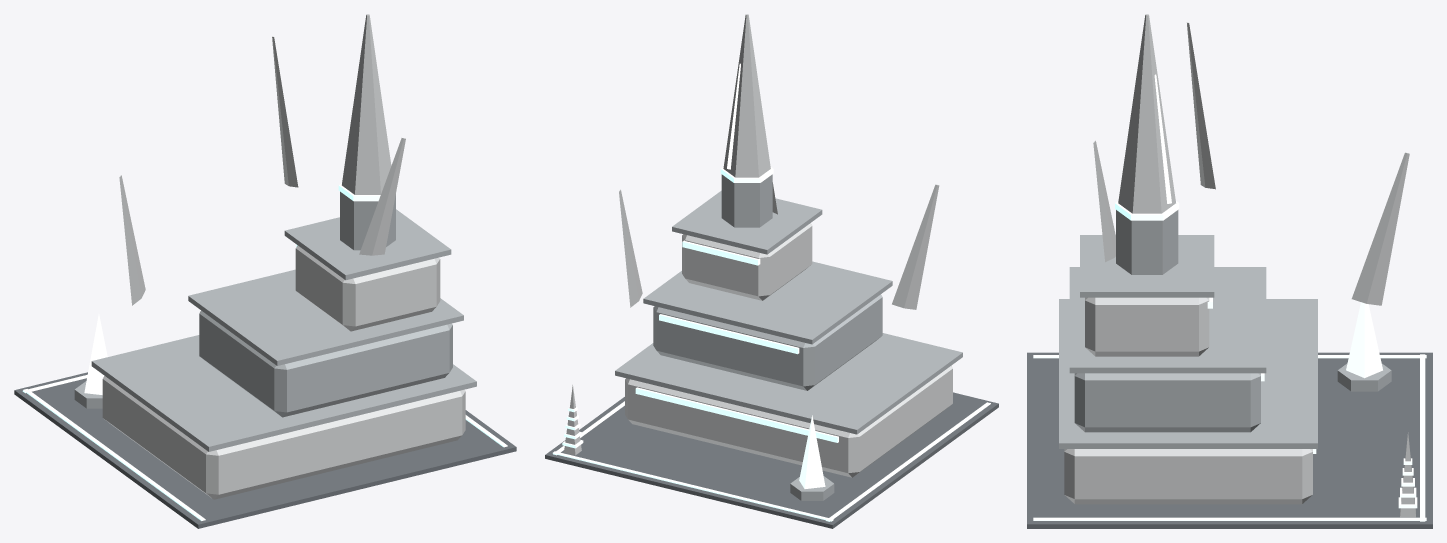
The model's file is zone_low_3_t5.glb.
3 views of the same model, side by side, from view 1: azimuth 30°, elevation 25°; view 2: azimuth 150°, elevation 25°; view 3: azimuth 270°, elevation 25° (orthographic). The views are drawn at different scales.
Visible parts, largest first — view 1: zone_low_3_t5, detail; view 2: zone_low_3_t5, detail; view 3: zone_low_3_t5, detail.
Part boxes in pixels (x1,y1,x2,y2): zone_low_3_t5: (14,14,516,528); detail: (22,375,507,520); zone_low_3_t5: (545,14,998,528); detail: (552,385,990,521); zone_low_3_t5: (1027,14,1432,528); detail: (1033,354,1426,521).
Size of the model in its own units: 20 by 24.7 by 19.6.
